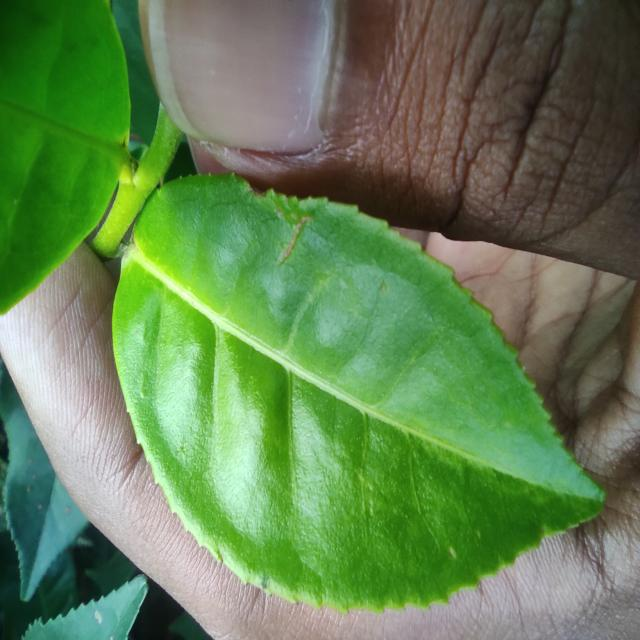Category C 4-7 days: (101, 139, 620, 616)
